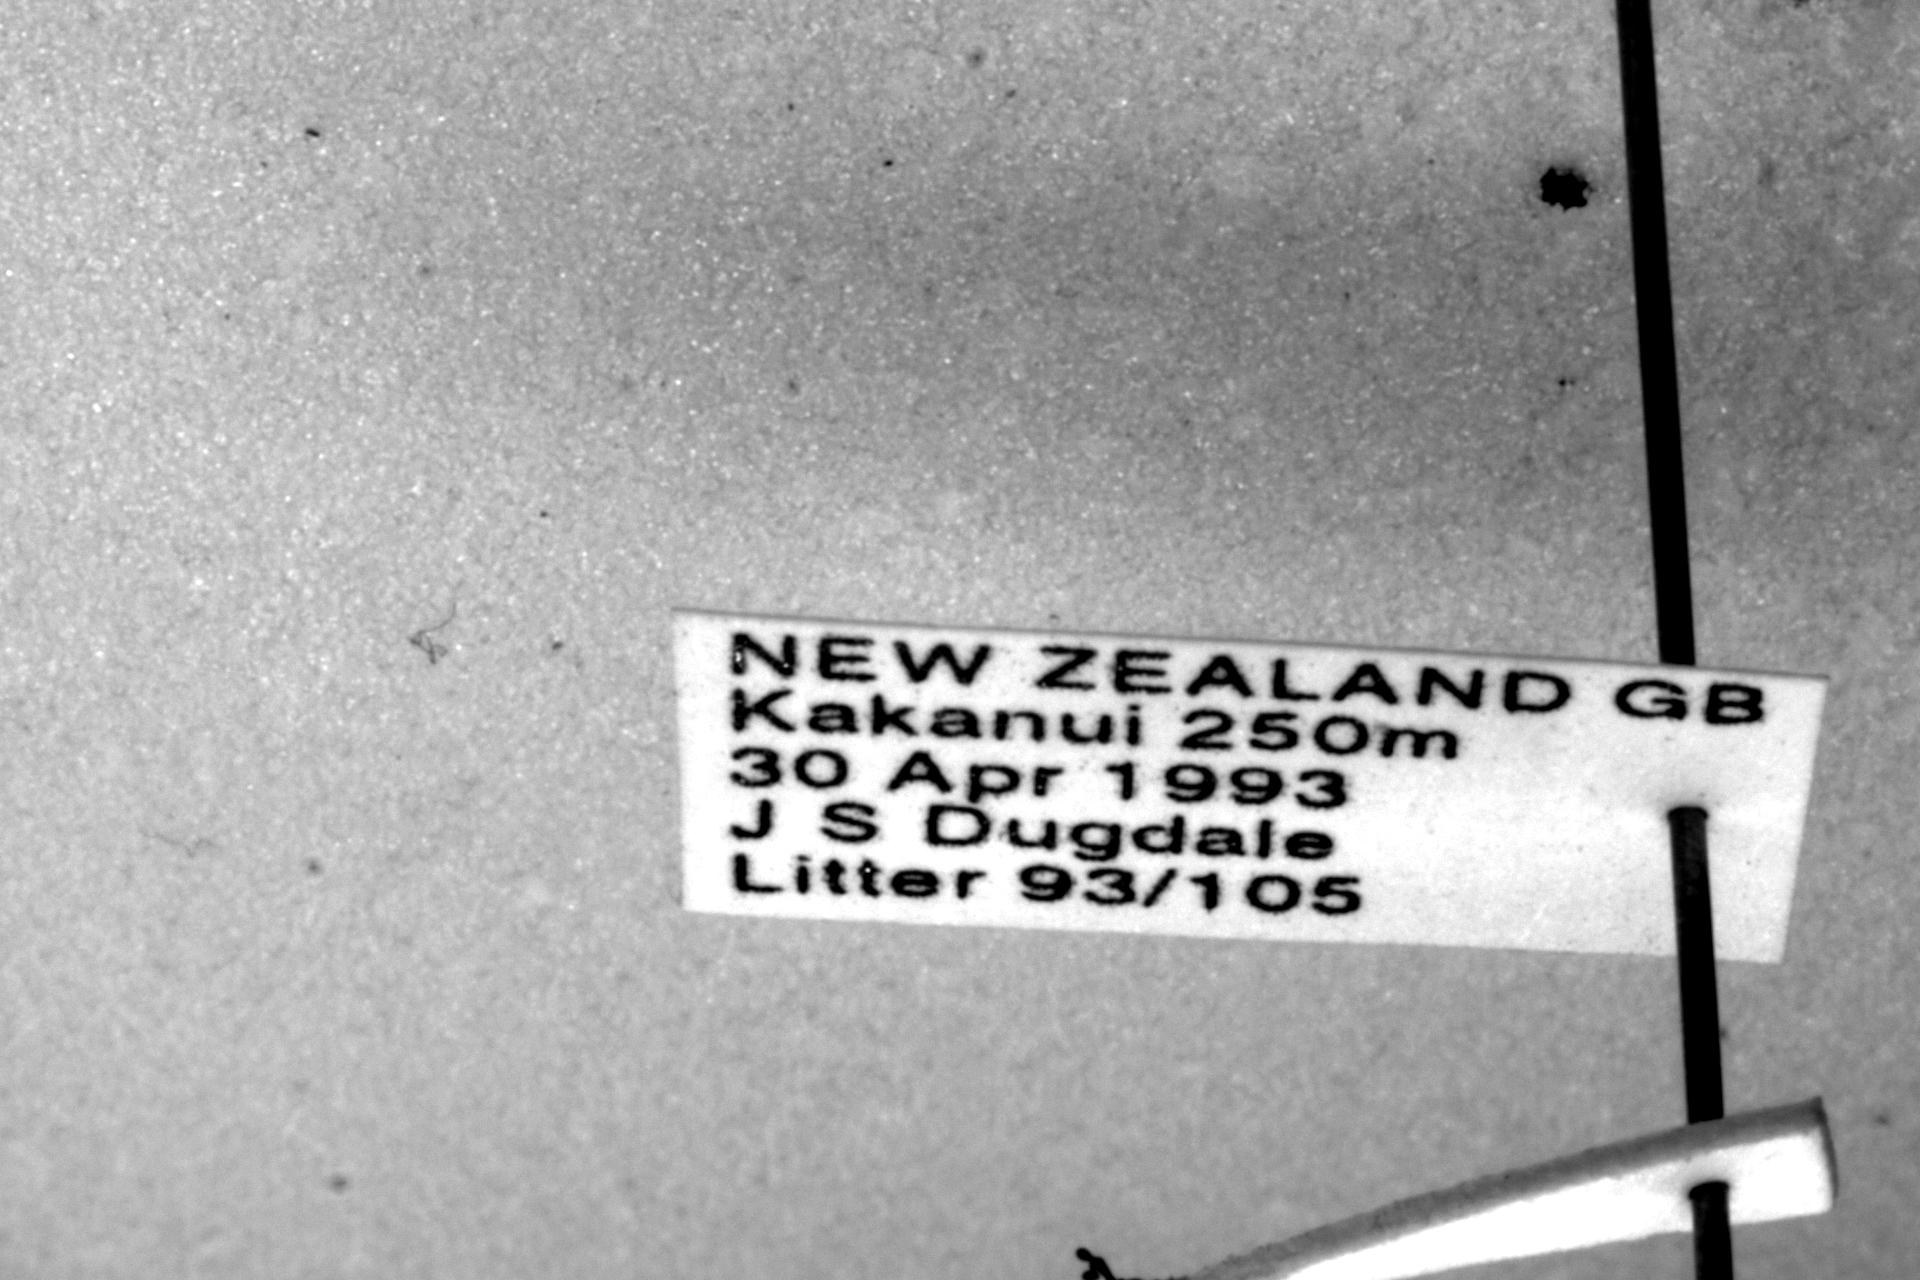typed_label: (674, 611, 1826, 960)
